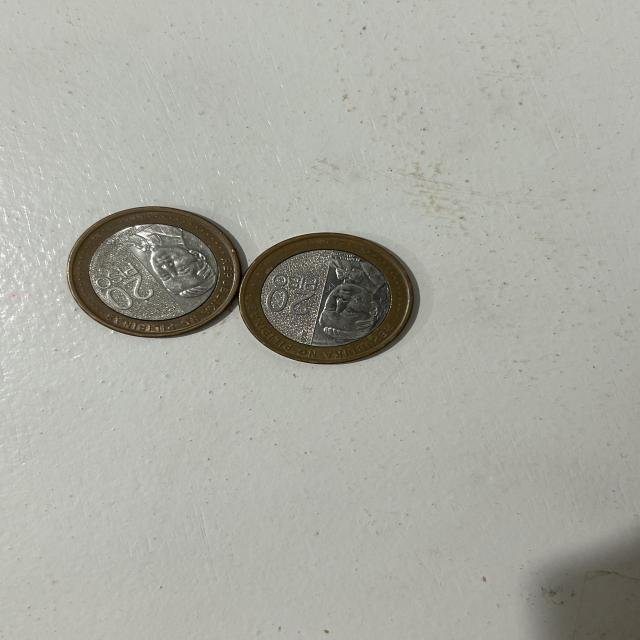20_New_Front: (95, 260, 164, 312), (260, 265, 320, 322)
